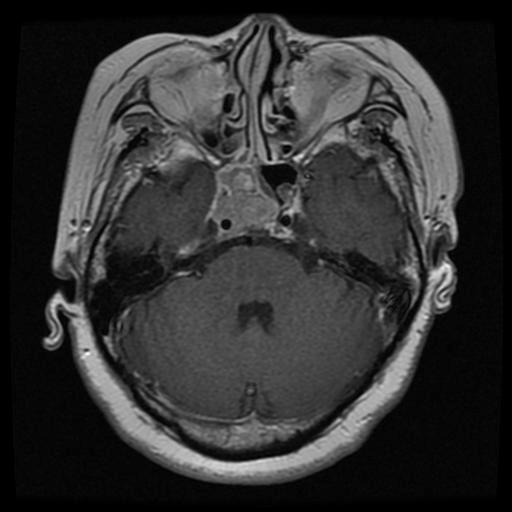Tumour-Pituitary: (204, 160, 314, 254)
